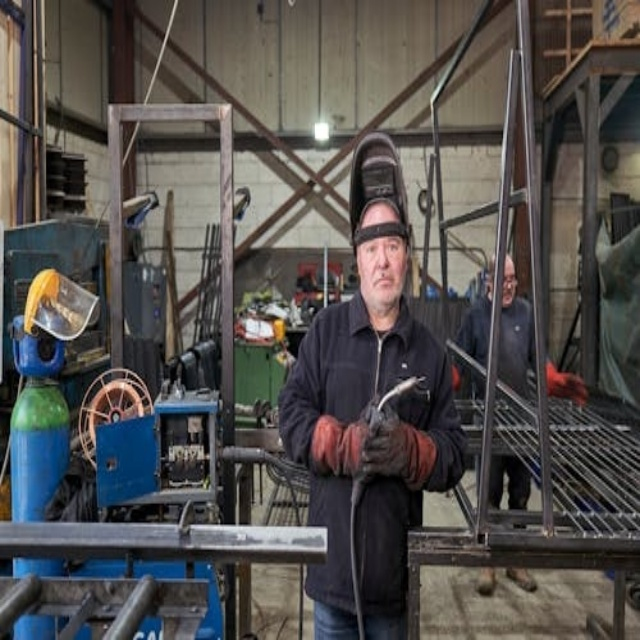Guantes: (364, 402, 438, 492), (302, 404, 374, 484), (541, 357, 589, 411)
Sin_gafas: (362, 234, 402, 263)
Sin_mascara: (367, 271, 399, 304)
